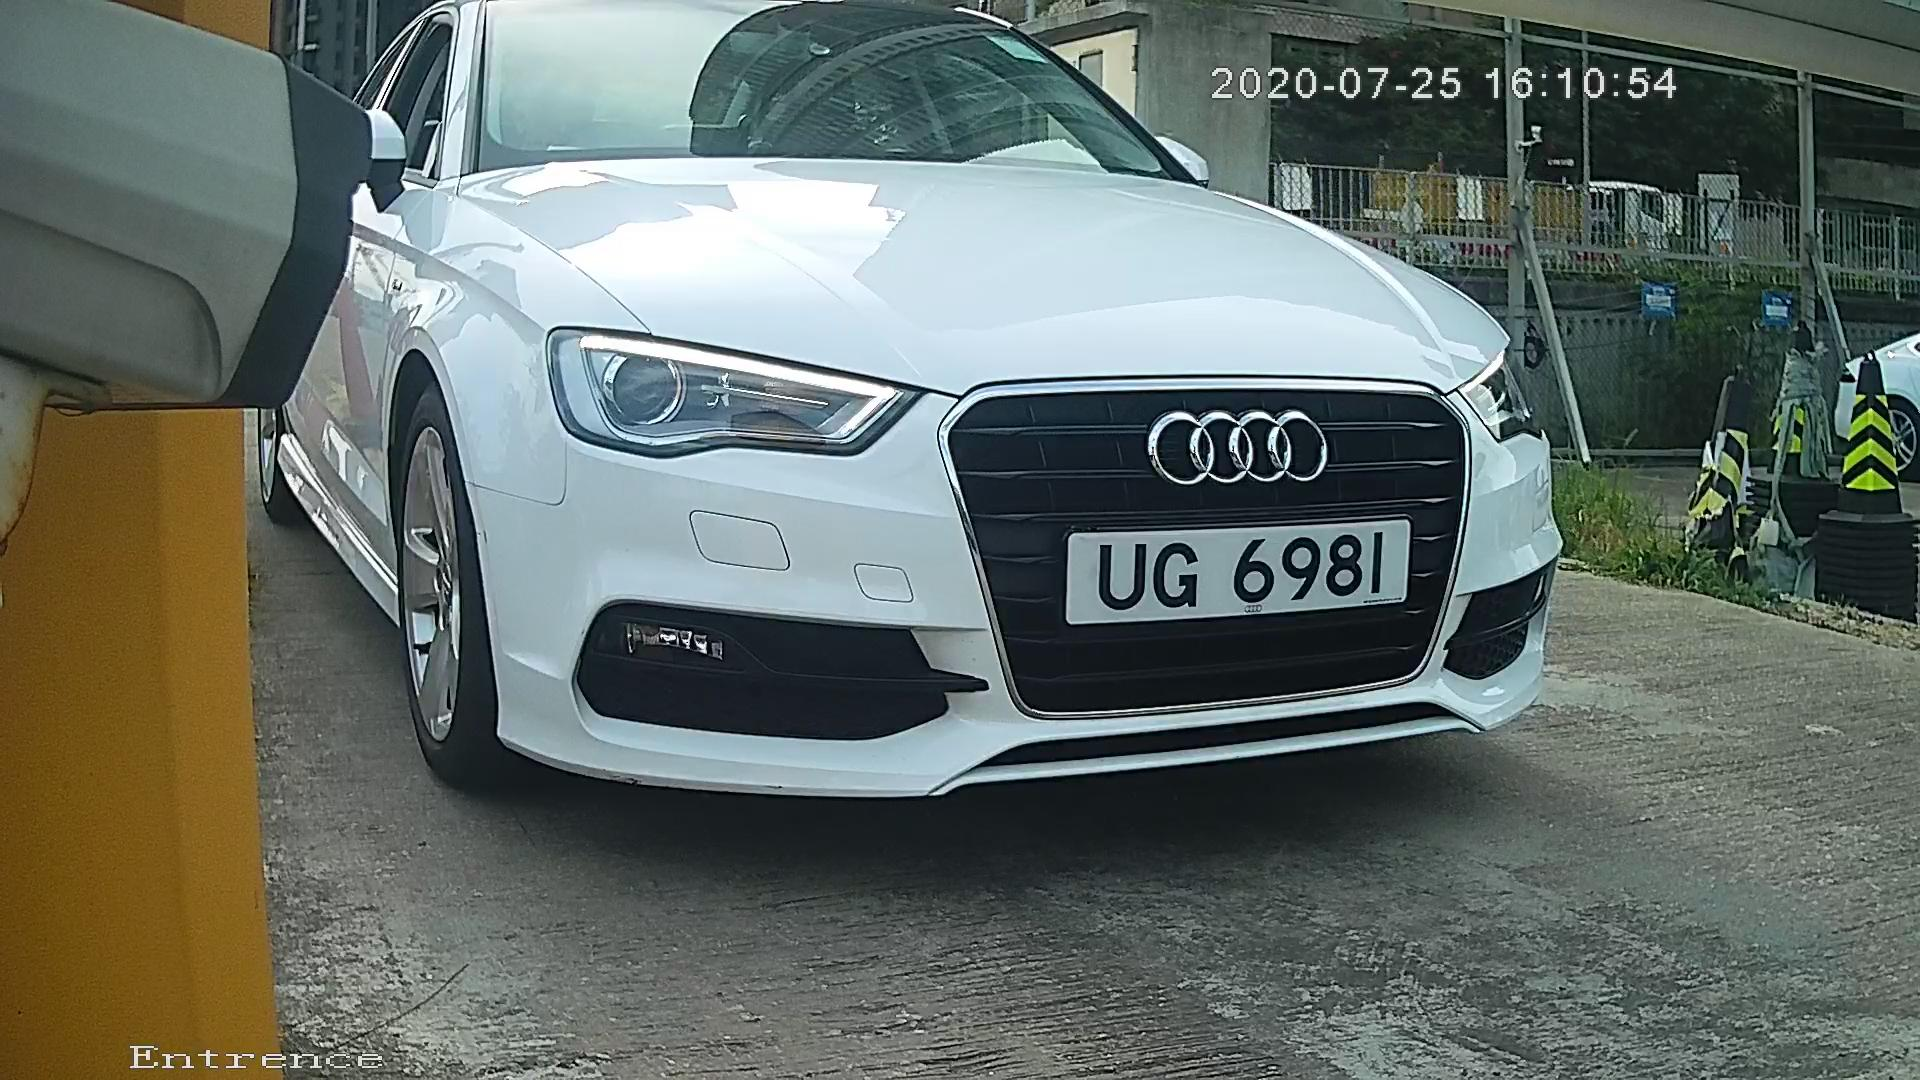Car: (129, 1, 1663, 873)
License Plate: (1046, 516, 1432, 632)
